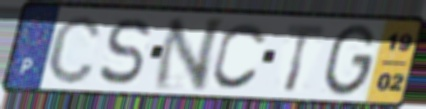C: (44, 12, 104, 86), (210, 20, 270, 92)
G: (320, 22, 380, 99)
N: (148, 16, 229, 93)
S: (96, 16, 153, 87)
T: (283, 21, 329, 94)
